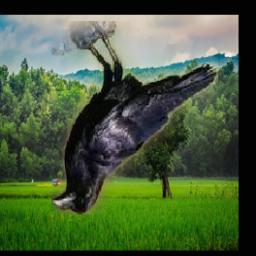Crow: (51, 21, 218, 215)
